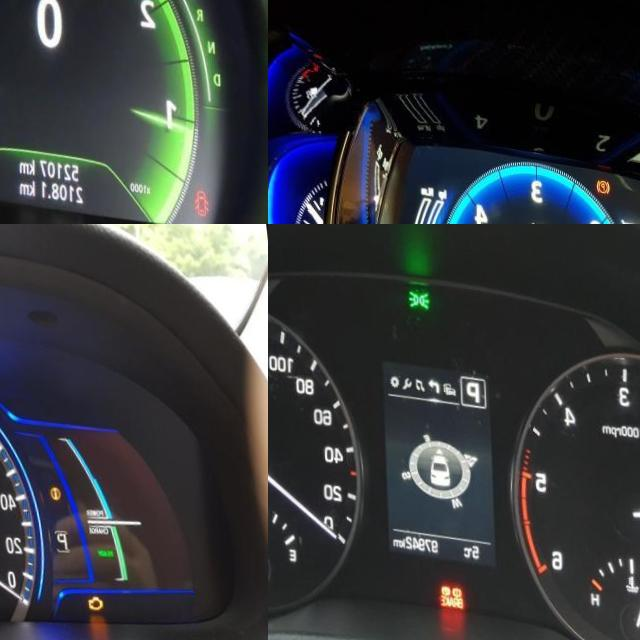Doors: (193, 174, 209, 204)
SideLamp: (409, 275, 430, 302)
